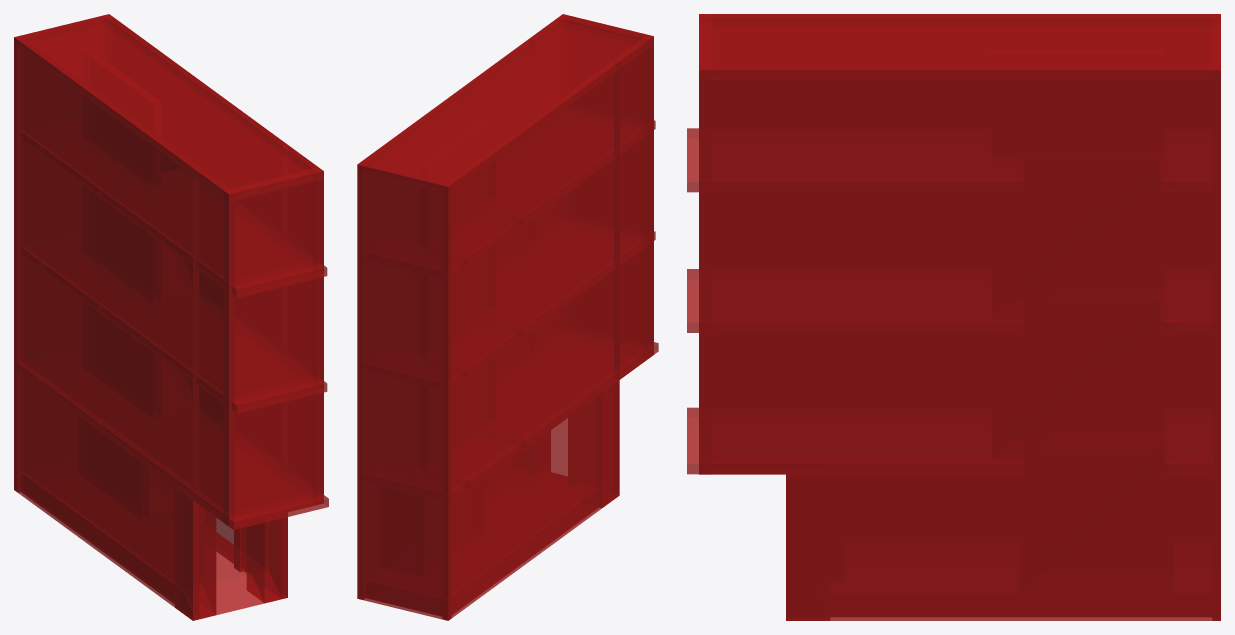
File: SM_Bld_Shop_02_Collision.fbx
The picture shows the model from 3 angles, left to right: view 1: azimuth 30°, elevation 25°; view 2: azimuth 150°, elevation 25°; view 3: azimuth 270°, elevation 25°; orthographic projection. The views are drawn at different scales.
Parts seen in each view (by area): view 1: SM_Bld_Shop_02_Collision; view 2: SM_Bld_Shop_02_Collision; view 3: SM_Bld_Shop_02_Collision.
Part boxes in pixels (left/top/right/bottom): SM_Bld_Shop_02_Collision: left=14, top=14, right=328, bottom=620; SM_Bld_Shop_02_Collision: left=357, top=14, right=658, bottom=620; SM_Bld_Shop_02_Collision: left=687, top=14, right=1220, bottom=620.
Bounding box in the file's own units: 307 × 1399 × 1230.
